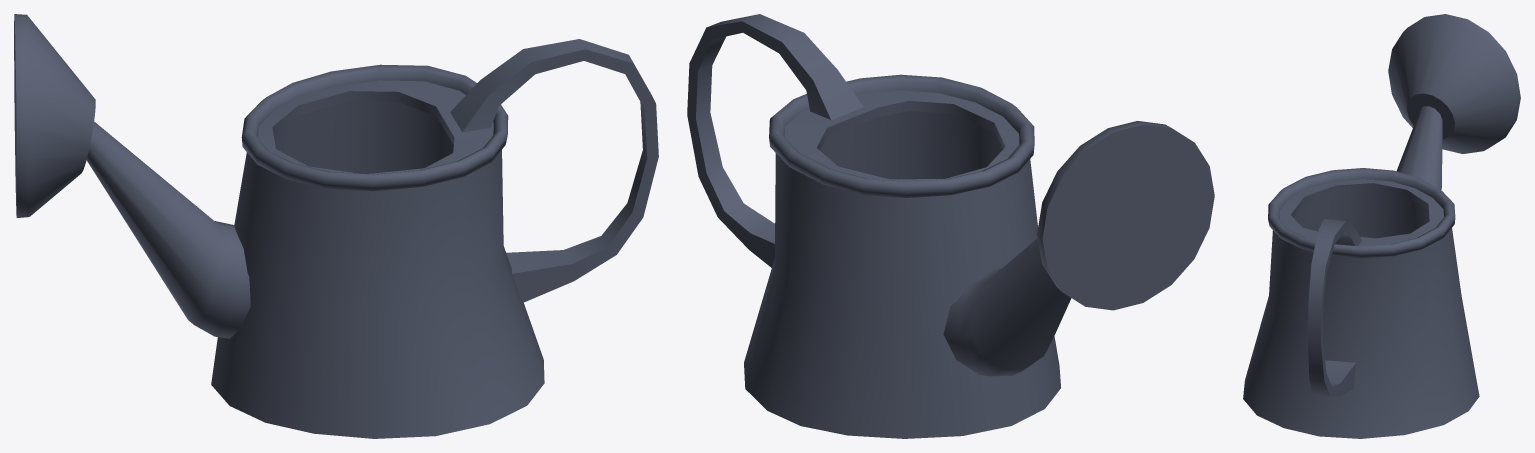
The model's file is Watercan.FBX.
3 views of the same model, side by side, from view 1: azimuth 30°, elevation 25°; view 2: azimuth 150°, elevation 25°; view 3: azimuth 270°, elevation 25° (orthographic). The views are drawn at different scales.
Visible parts, largest first — view 1: WaterCan; view 2: WaterCan; view 3: WaterCan.
Part boxes in pixels (x1,y1,x2,y2): WaterCan: (14, 14, 658, 438); WaterCan: (687, 14, 1214, 438); WaterCan: (1243, 14, 1520, 438).
Bounding box in the file's own units: 81.39 × 48.99 × 46.15.
